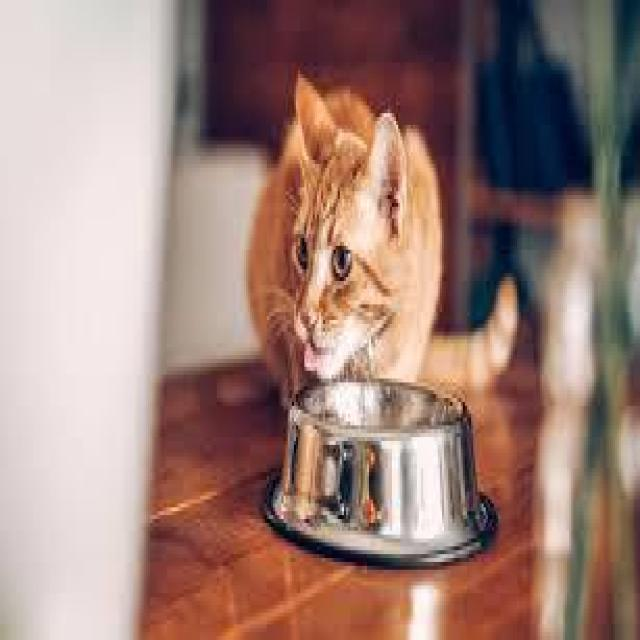Cat: (284, 66, 416, 394)
